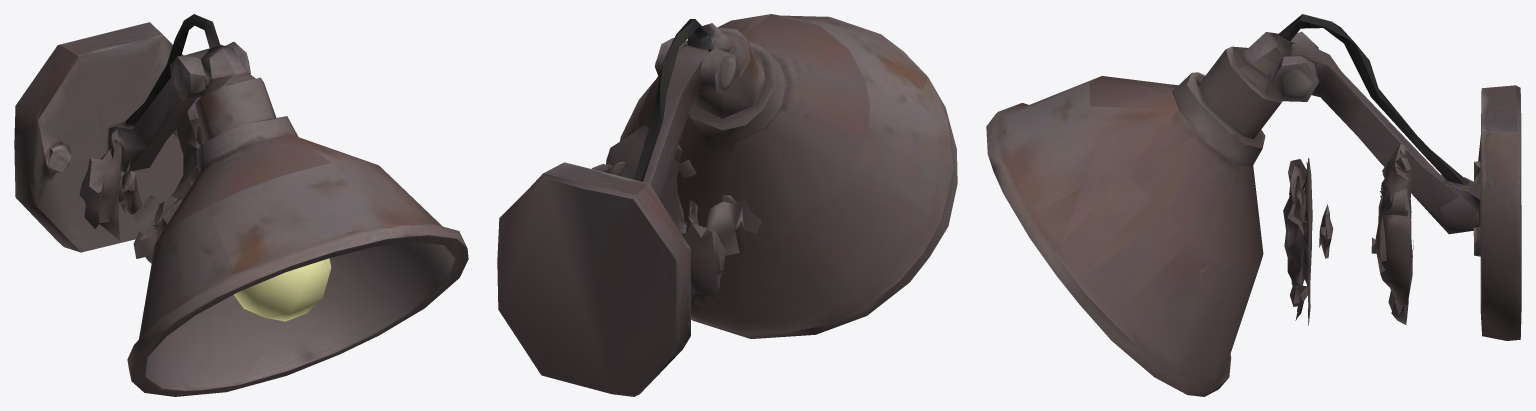
Rendered from decor_lamp_wall_industrial_idle.glb.
The picture shows the model from 3 angles, left to right: view 1: azimuth 30°, elevation 25°; view 2: azimuth 150°, elevation 25°; view 3: azimuth 270°, elevation 25°; orthographic projection. The views are drawn at different scales.
Parts seen in each view (by area): view 1: tripo_node_ce61ade0-b037-47ca-91ef-a81cf68efa91; view 2: tripo_node_ce61ade0-b037-47ca-91ef-a81cf68efa91; view 3: tripo_node_ce61ade0-b037-47ca-91ef-a81cf68efa91.
Part boxes in pixels (x1,y1,x2,y2): tripo_node_ce61ade0-b037-47ca-91ef-a81cf68efa91: (14,14,468,396); tripo_node_ce61ade0-b037-47ca-91ef-a81cf68efa91: (497,14,957,396); tripo_node_ce61ade0-b037-47ca-91ef-a81cf68efa91: (986,14,1521,396).
Size of the model in its own units: 0.2494 by 0.2507 by 0.341.
1 material, 1 textured.
